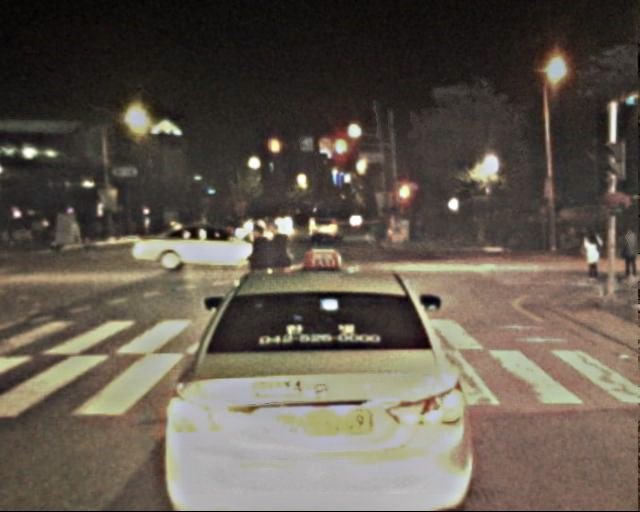person: (267, 215, 301, 320), (245, 218, 278, 316), (580, 226, 605, 288), (617, 227, 639, 285)
